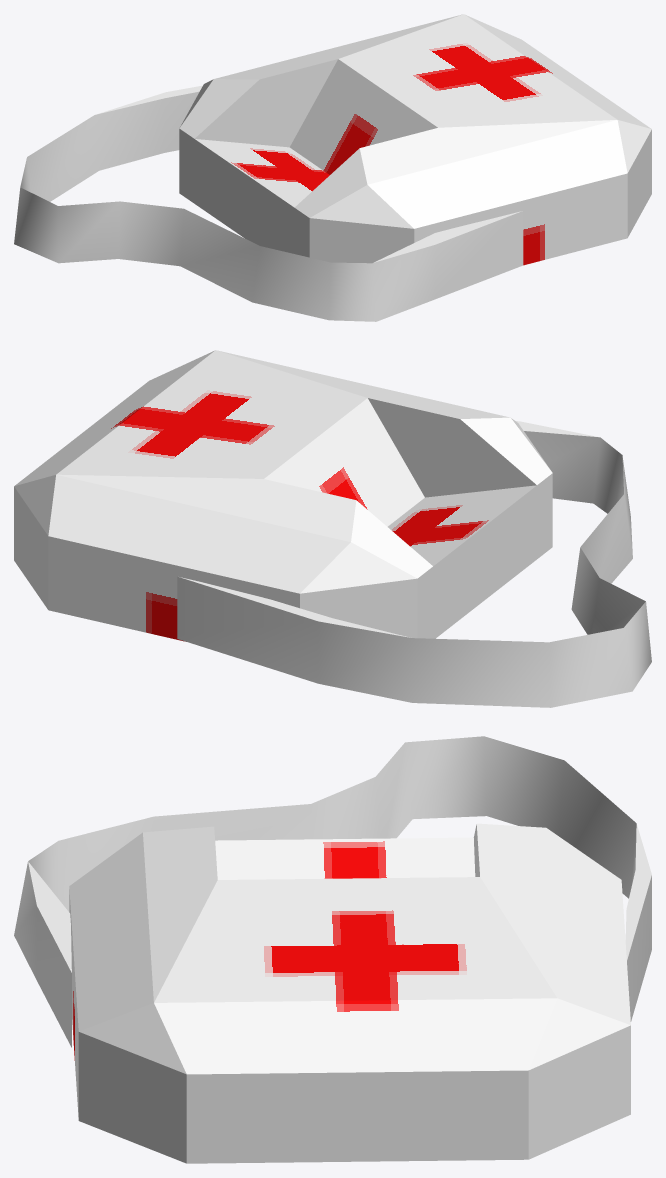
Rendered from w_medkit.glb.
3 renders of one model, top to bottom at view 1: azimuth 30°, elevation 25°; view 2: azimuth 150°, elevation 25°; view 3: azimuth 270°, elevation 25°, orthographic. The views are drawn at different scales.
Parts seen in each view (by area): view 1: valve/models/w_medkit.mdl; view 2: valve/models/w_medkit.mdl; view 3: valve/models/w_medkit.mdl.
Boxes of the visible parts, box(x1,y1,x2,y2) form: valve/models/w_medkit.mdl: box(14, 14, 651, 321); valve/models/w_medkit.mdl: box(14, 350, 651, 707); valve/models/w_medkit.mdl: box(14, 736, 651, 1163).
Size of the model in its own units: 34.98 by 6.77 by 26.49.
2 materials, 2 textured.
